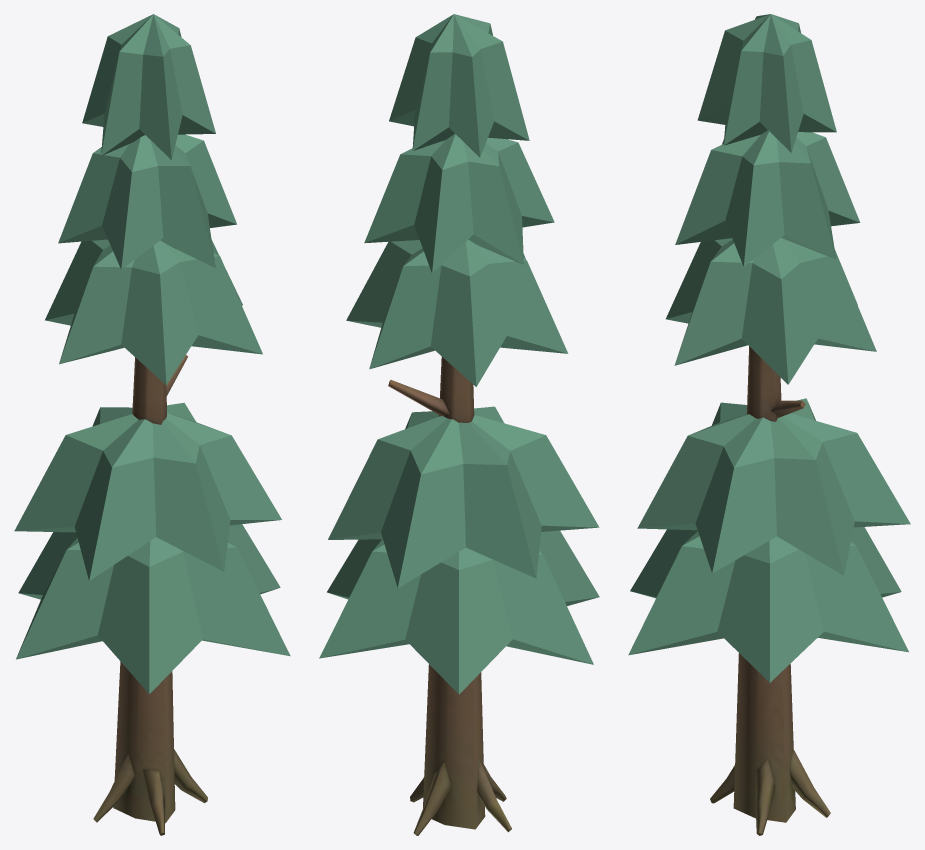
Rendered from arv_pinheiro_5.glb.
3 views of the same model, side by side, from view 1: azimuth 30°, elevation 25°; view 2: azimuth 150°, elevation 25°; view 3: azimuth 270°, elevation 25° (orthographic).
Parts seen in each view (by area): view 1: arv_pinheiro_5_corpo; view 2: arv_pinheiro_5_corpo; view 3: arv_pinheiro_5_corpo.
Boxes of the visible parts, x1,y1,x2,y2 form: arv_pinheiro_5_corpo: (14,14,290,835); arv_pinheiro_5_corpo: (319,14,599,835); arv_pinheiro_5_corpo: (628,14,910,835).
Size of the model in its own units: 0.9512 by 2.73 by 0.8748.
2 materials, 1 textured.
